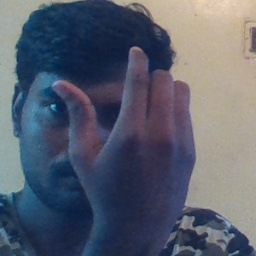U: (49, 43, 203, 226)
